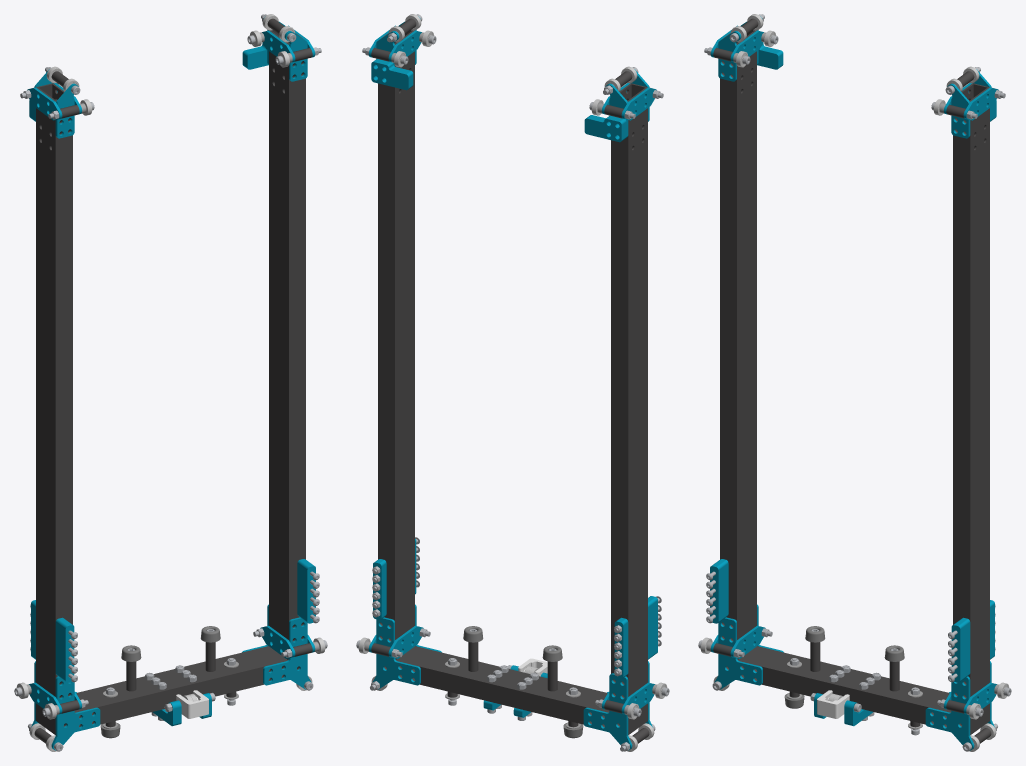
3 views of the same model, side by side, from view 1: azimuth 30°, elevation 25°; view 2: azimuth 150°, elevation 25°; view 3: azimuth 330°, elevation 25° (orthographic).
Parts seen in each view (by area): view 1: Part 2 (×2), Part 5, Part 8 (×2), Part 12 (×2), Part 10 (×2), Part 11 (×2), Part 22; view 2: Part 2 (×2), Part 5, Part 8 (×2), Part 28 (×2), Part 12 (×2), Part 11 (×2); view 3: Part 2 (×2), Part 5, Part 8 (×2), Part 12 (×2), Part 10 (×2), Part 11 (×2), Part 22.
Part boxes in pixels (bbox=[...]): Part 2 (×2): bbox=[36, 30, 305, 734]; Part 5: bbox=[74, 646, 287, 727]; Part 8 (×2): bbox=[51, 617, 311, 750]; Part 12 (×2): bbox=[60, 562, 315, 682]; Part 10 (×2): bbox=[55, 31, 307, 138]; Part 11 (×2): bbox=[27, 87, 295, 658]; Part 22: bbox=[176, 690, 208, 718]; Part 2 (×2): bbox=[378, 30, 647, 734]; Part 5: bbox=[396, 646, 609, 727]; Part 8 (×2): bbox=[372, 617, 632, 750]; Part 28 (×2): bbox=[371, 59, 626, 142]; Part 12 (×2): bbox=[373, 559, 628, 678]; Part 11 (×2): bbox=[388, 87, 656, 658]; Part 2 (×2): bbox=[720, 30, 989, 734]; Part 5: bbox=[738, 646, 951, 727]; Part 8 (×2): bbox=[714, 617, 974, 750]; Part 12 (×2): bbox=[710, 562, 965, 682]; Part 10 (×2): bbox=[718, 31, 970, 138]; Part 11 (×2): bbox=[730, 87, 998, 658]; Part 22: bbox=[817, 690, 849, 718].
Size of the model in its own units: 0.326 by 0.7449 by 0.0931.
